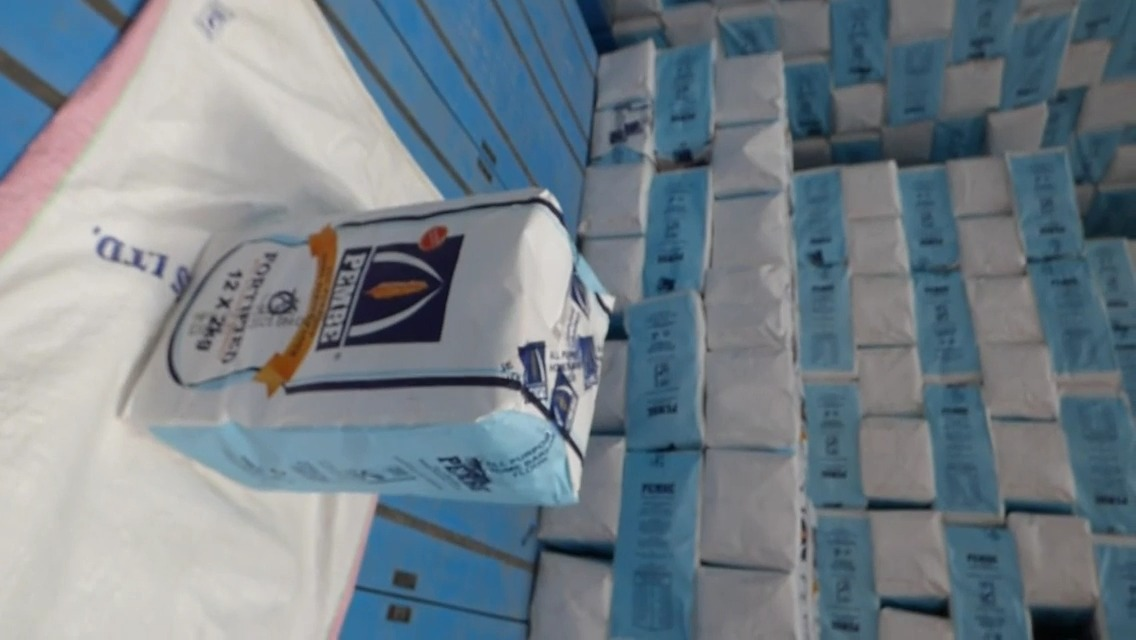wheat_flour_blue_label: (122, 191, 613, 507)
